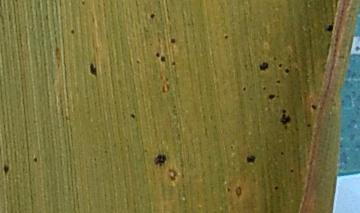tarspot: (151, 152, 172, 167), (89, 62, 99, 79), (279, 114, 292, 126), (246, 152, 257, 165), (259, 62, 270, 72), (2, 163, 11, 175), (325, 21, 334, 33), (267, 93, 276, 102), (158, 55, 167, 62), (148, 12, 156, 19), (169, 37, 177, 44), (129, 113, 137, 119), (280, 108, 288, 114), (311, 103, 317, 111), (68, 30, 77, 35), (305, 122, 312, 128), (275, 78, 281, 85), (223, 34, 230, 40), (261, 84, 267, 91), (276, 63, 284, 68), (32, 157, 39, 162), (154, 52, 161, 57), (285, 67, 290, 74), (273, 185, 279, 190), (289, 168, 295, 173), (242, 86, 247, 92), (279, 151, 284, 156), (171, 61, 176, 66)
